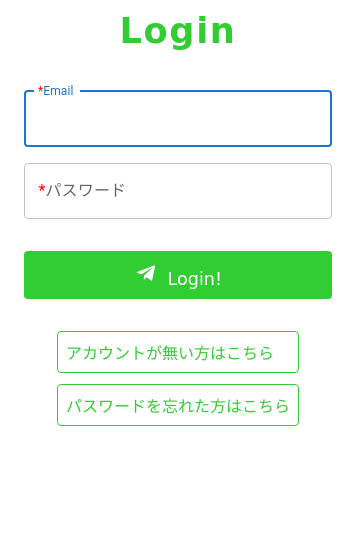
it: Loginコンポーネント › Form欄 › Form入力欄 › Apiエラーメッセージ
Note: 各項目に値を入力
Type "test@example.com" into the field with test id "emailArea" at (178, 119), box [24,91,332,147]
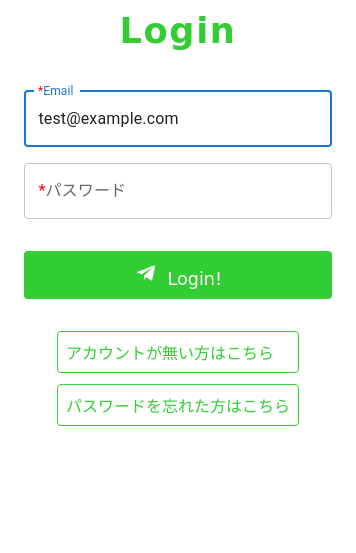
Type "testPassword" into the password field with test id "passwordArea" at (178, 191), box [24,163,332,219]
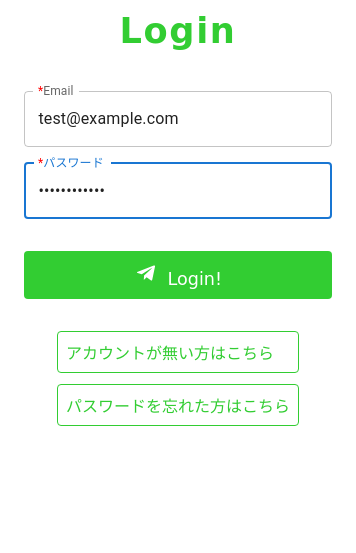
Note: ユーザが送信ボタンをクリック
Click the button with test id "formSubmit" at (178, 275), box [24,251,332,299]
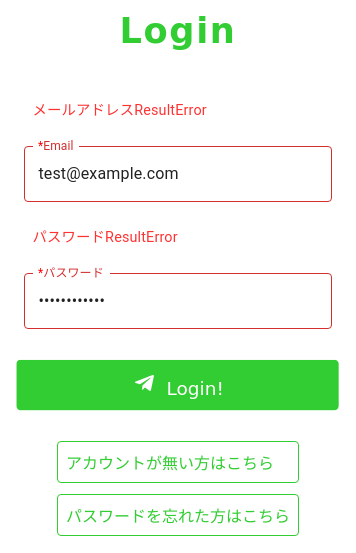
Expected: the text with test id "emailResultError" is shown, [32,102,207,119]
Expected: the text with test id "passwordResultError" is shown, [32,229,178,246]
